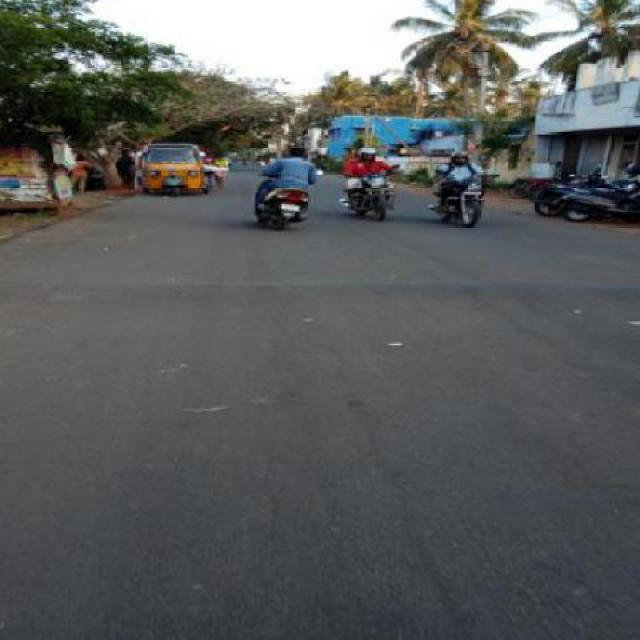Unmarked Bump: (0, 277, 639, 304)
